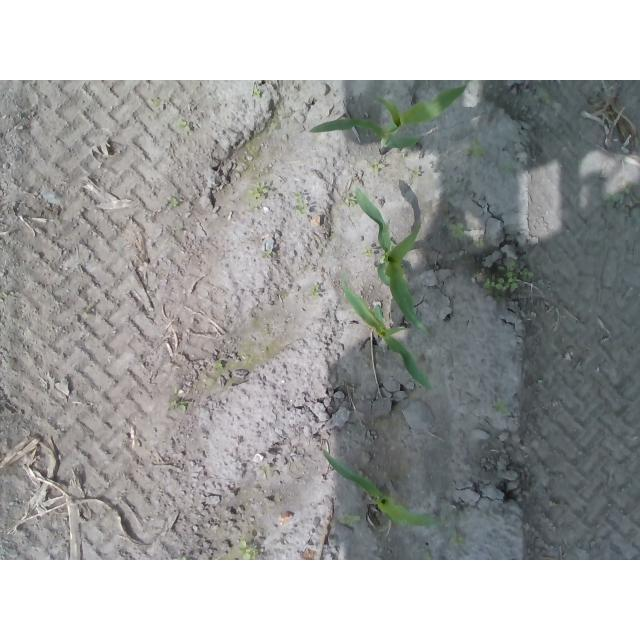Maize: (355, 181, 450, 329), (307, 85, 470, 155), (319, 448, 445, 529), (343, 287, 434, 390)
Weeds: (484, 266, 536, 292), (605, 184, 635, 204), (236, 540, 259, 561), (466, 140, 488, 158), (294, 189, 308, 217), (339, 512, 362, 528), (248, 186, 268, 199), (495, 400, 510, 417), (170, 398, 188, 412), (449, 222, 464, 238), (451, 531, 467, 546), (344, 191, 358, 208), (369, 159, 384, 174), (177, 119, 191, 132), (165, 196, 180, 207), (361, 246, 373, 258), (410, 167, 423, 177), (311, 286, 322, 297), (471, 238, 484, 246), (215, 358, 225, 368), (253, 87, 262, 97), (264, 251, 273, 257)
